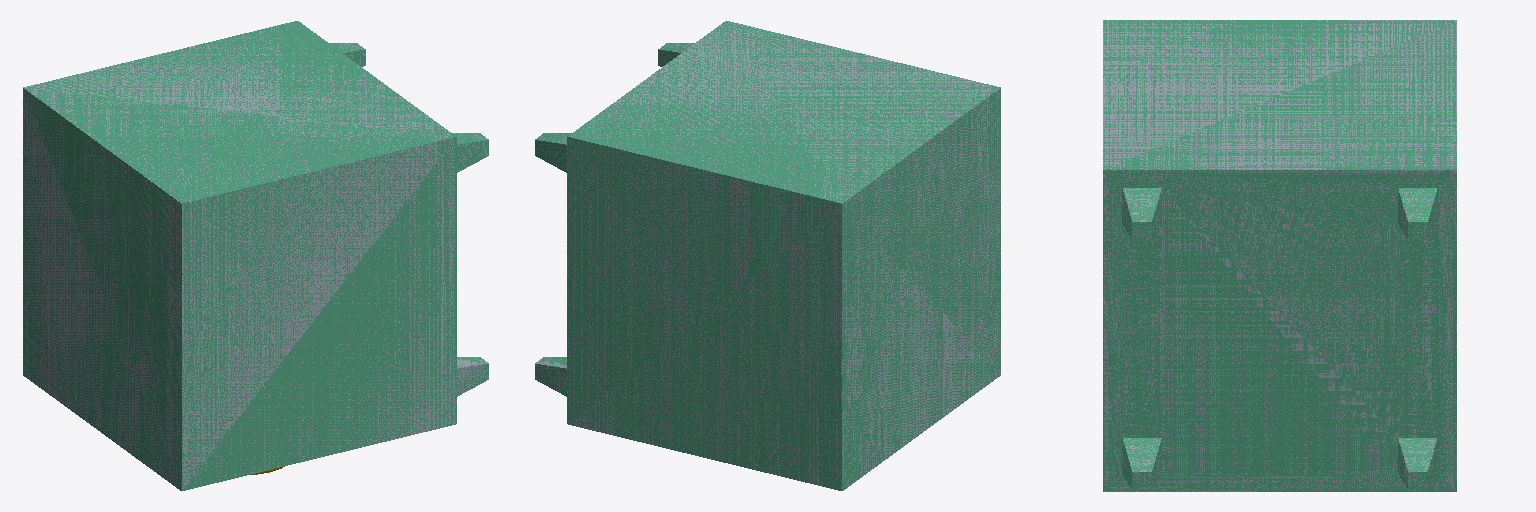
The robot description file, URDF, robot "right-pull-door":
<?xml version="1.0" ?>
<robot name="right-pull-door">
	<link name="base"/>
	<link name="link_0">
		<visual name="out-frame">
			<origin xyz="0 0 0"/>
			<geometry>
				<mesh filename="texture_dae/frame.dae" scale="0.6 0.6 0.6"/>
			</geometry>
		</visual>
		<collision>
			<origin xyz="0 0 0"/>
			<geometry>
				<mesh filename="texture_dae/frame.dae" scale="0.6 0.6 0.6"/>
			</geometry>
		</collision>
	</link>
	<joint name="joint_0" type="fixed">
		<origin rpy="1.570796326794897 0 -1.570796326794897" xyz="0 0 0"/>
		<child link="link_0"/>
		<parent link="base"/>
	</joint>
	<link name="link_1">
		<visual name="surf-board">
			<origin xyz="0.2467593642047614 0 0"/>
			<geometry>
				<mesh filename="texture_dae/board.dae" scale="0.6 0.6 0.6"/>
			</geometry>
		</visual>
		<collision>
			<origin xyz="0.2467593642047614 0 0"/>
			<geometry>
				<mesh filename="texture_dae/board.dae" scale="0.6 0.6 0.6"/>
			</geometry>
		</collision>
	</link>
	<joint name="joint_1" type="revolute">
		<origin xyz="-0.2467593642047614 0 0"/>
		<axis xyz="0 -1 0"/>
		<child link="link_1"/>
		<parent link="link_0"/>
		<limit lower="0" upper="1.5079644737231006"/>
	</joint>
	<link name="link_2">
		<visual name="handle">
			<origin xyz="0 0 0"/>
			<geometry>
				<mesh filename="texture_dae/9961213.dae" scale="0.6 0.6 0.6"/>
			</geometry>
		</visual>
		<collision>
			<origin xyz="0 0 0"/>
			<geometry>
				<mesh filename="texture_dae/9961213.dae" scale="0.6 0.6 0.6"/>
			</geometry>
		</collision>
	</link>
	<joint name="joint_2" type="revolute">
		<origin xyz="0.2467593642047614 0 0.010087464443295842"/>
		<child link="link_2"/>
		<parent link="link_1"/>
		<axis xyz="0 0 1"/>
		<limit lower="0" upper="1.5079644737231006"/>
	</joint>
</robot>

--- What the picture shows (computed from the rendered views, not written in the file) ---
3 views of the same robot in one strip: view 1: azimuth 30°, elevation 25°; view 2: azimuth 150°, elevation 25°; view 3: azimuth 270°, elevation 25° (orthographic).
Model right-pull-door with 4 links and 3 joints (2 revolute, 1 fixed), rooted at base, posed all joints at 0.
Visible links, largest first — view 1: link_0; view 2: link_0; view 3: link_0.
Boxes of the visible links, x1=… form: link_0: x1=23, y1=21, x2=488, y2=490; link_0: x1=535, y1=21, x2=1000, y2=490; link_0: x1=1103, y1=20, x2=1456, y2=491.
Bounding box of the posed robot: 0.6401 × 0.5486 × 0.6366 m (x, y, z).
3 mesh visuals loaded from 3 distinct referenced files (3 Collada DAE).
